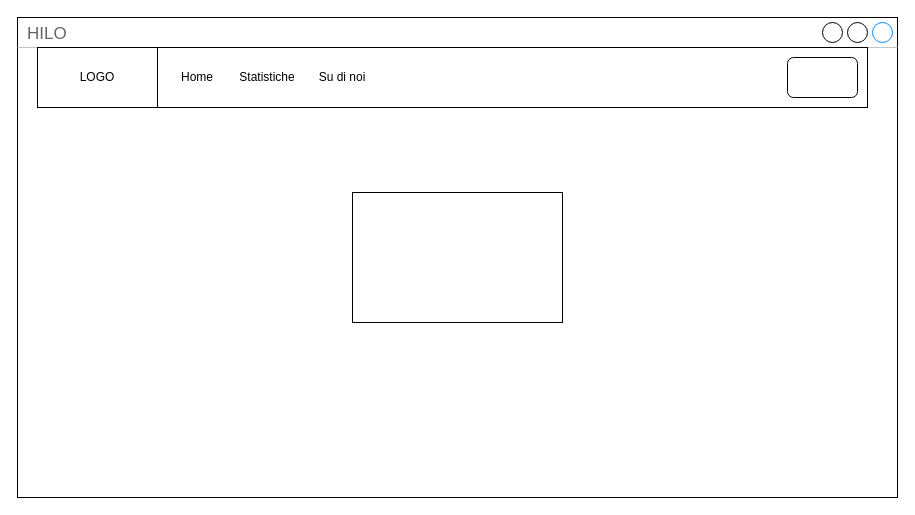
The diagram is 915 pixels wide and 515 high, and some of its shapes have lost their labels. Here are the shapes that lost their labels. From the top down, the centre of each, then its label:
At (822,77): "ACCEDI".
At (457,257): "PRESENTAZIONE PIATTAFORMA".
